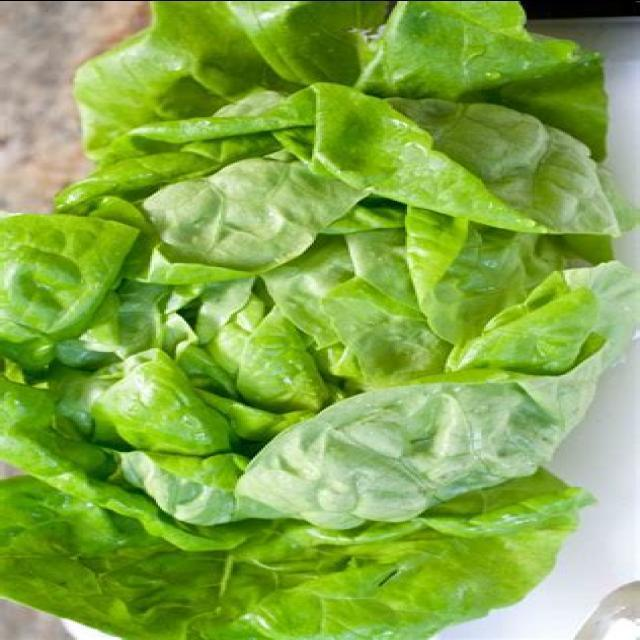Healthy: (24, 57, 602, 627)
